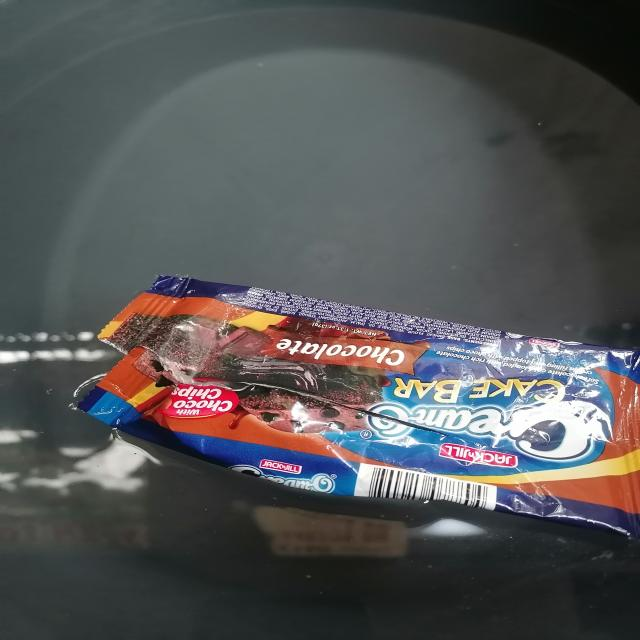Plastic Wrapper: (55, 243, 640, 560)
